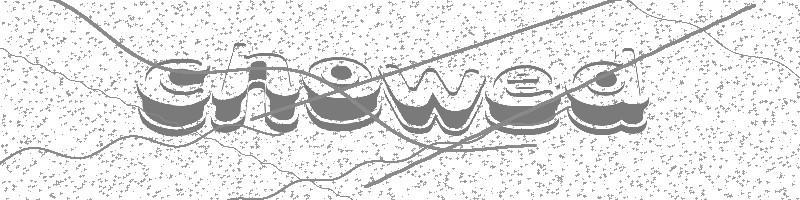c: (137, 56, 210, 137)
d: (564, 47, 650, 136)
e: (484, 63, 560, 136)
h: (212, 42, 300, 134)
o: (302, 56, 383, 132)
w: (379, 63, 487, 135)
